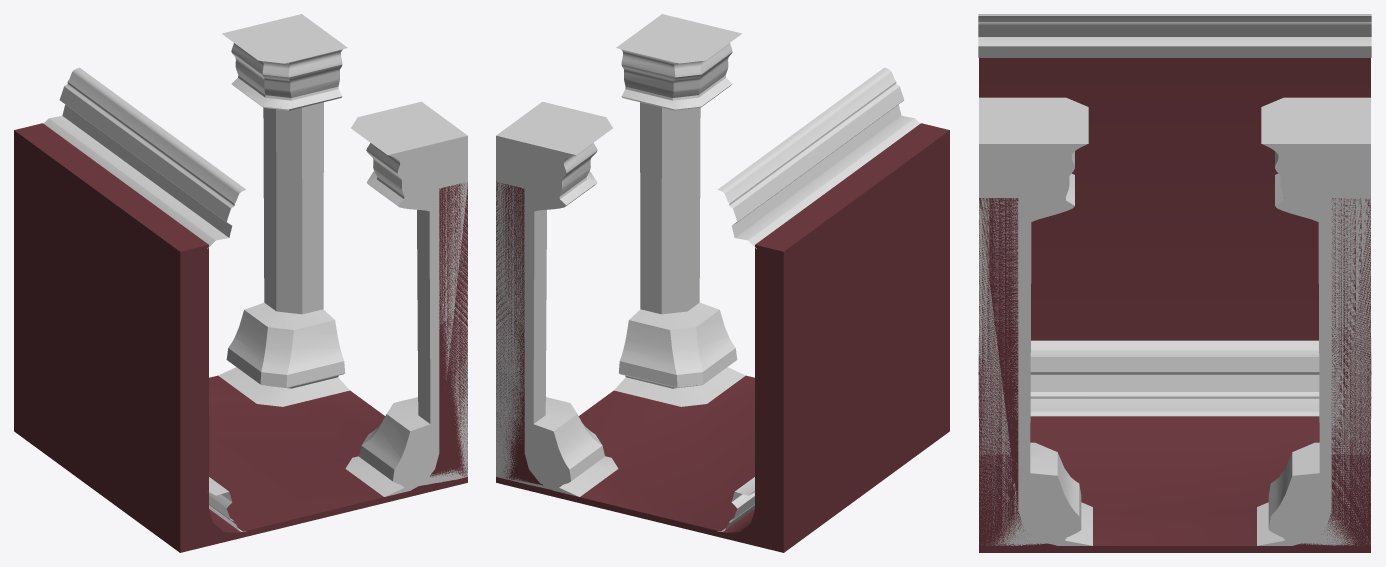
Rendered from Tileset_Piece_21.fbx.
3 views of the same model, side by side, from view 1: azimuth 30°, elevation 25°; view 2: azimuth 150°, elevation 25°; view 3: azimuth 270°, elevation 25° (orthographic). The views are drawn at different scales.
Parts seen in each view (by area): view 1: Tileset_Piece_21; view 2: Tileset_Piece_21; view 3: Tileset_Piece_21.
Part boxes in pixels (box(x1,y1,x2,y2)): Tileset_Piece_21: box(14, 14, 467, 552); Tileset_Piece_21: box(496, 14, 949, 552); Tileset_Piece_21: box(978, 14, 1371, 552).
Size of the model in its own units: 100 by 115 by 100.
